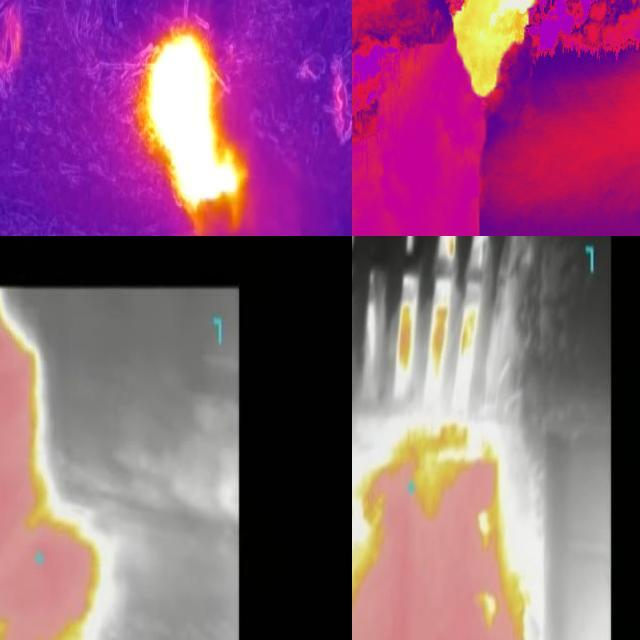fire: (352, 416, 539, 640), (1, 294, 103, 640), (142, 29, 242, 219), (447, 1, 538, 102)
